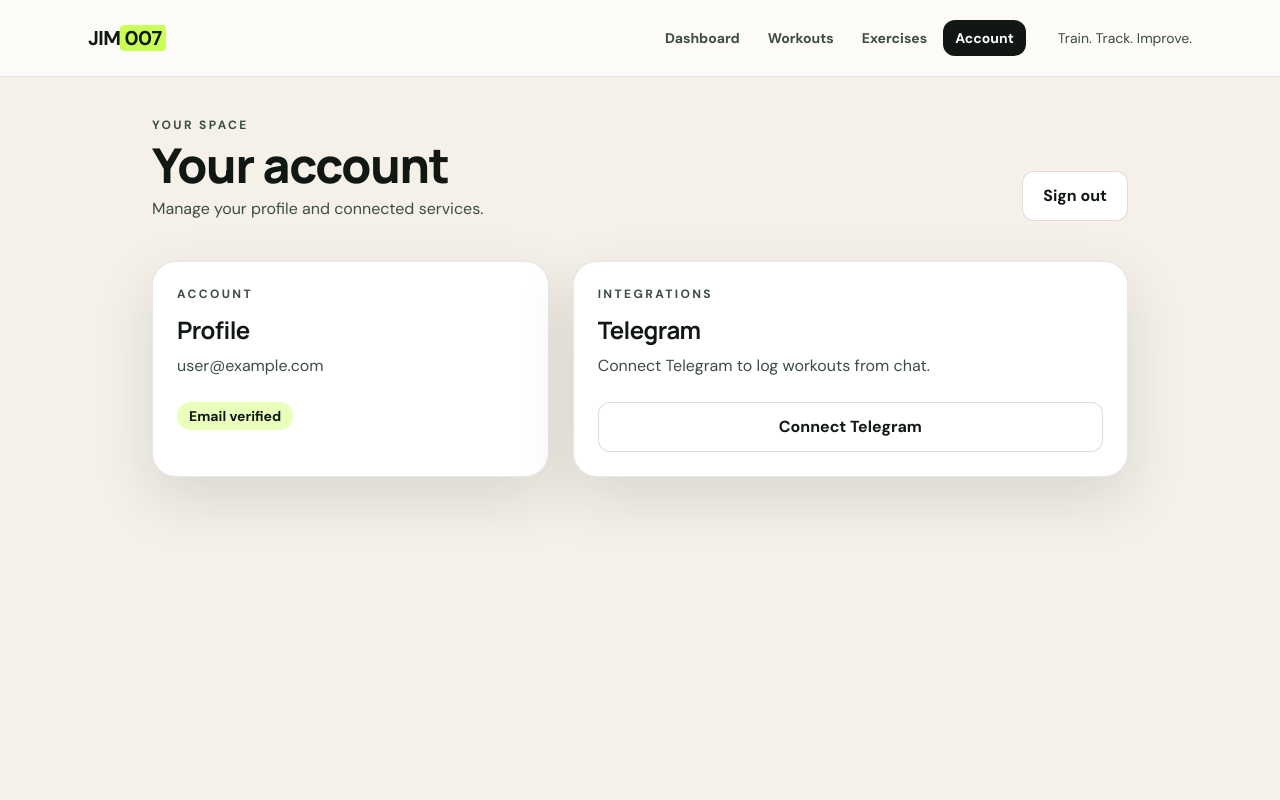
Test: authentication and optional integrations › starts Telegram linking with the session CSRF token
Step 1. Click the button "Connect Telegram" → click(850, 427), box [598,402,1103,452]
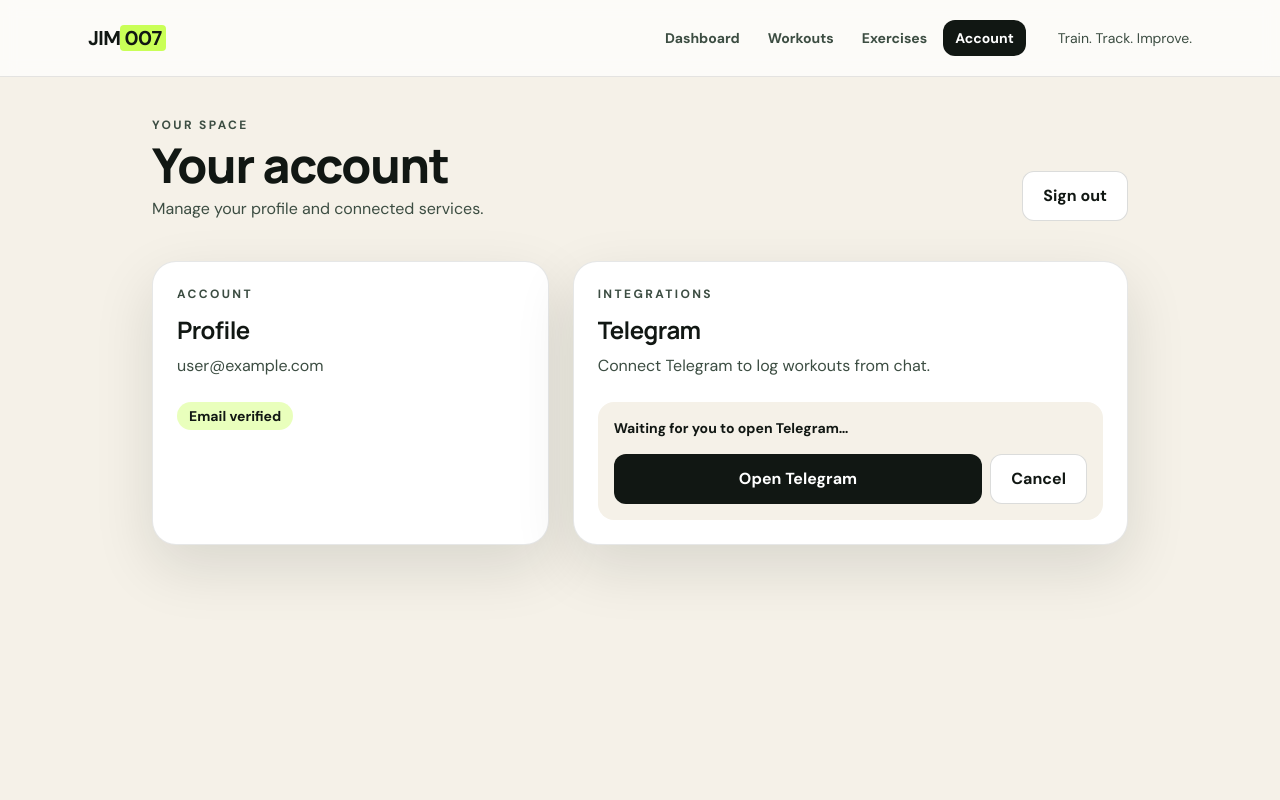
Check: the text "Waiting for you to open Telegram…" is shown, box [614,419,848,437]
